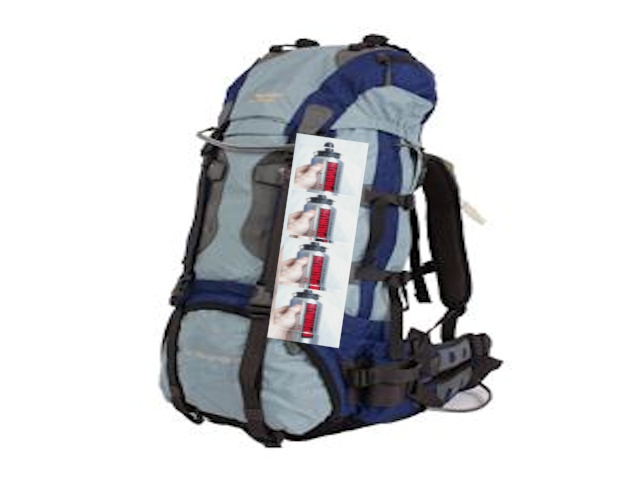file_cabinet: (257, 129, 376, 353)
